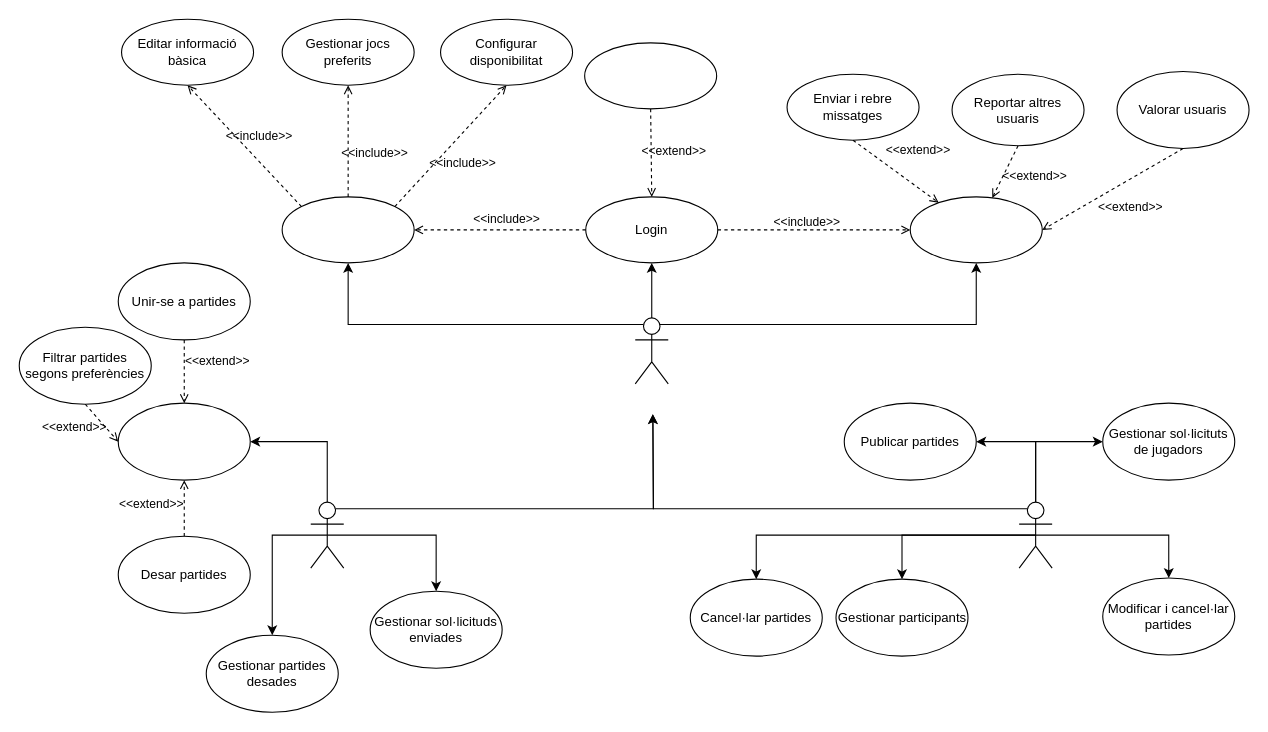
This 1268x732 diagram has some shape labels left out. The centre of each missing label's shape, as x and y in pixels:
"Cercar partides" goes at point 183,441.
"Consultar altres perfils" goes at point 975,229.
"Consultar partides passades" goes at point 650,75.
"Game Màster" goes at point 1035,534.
"Gestionar perfil" goes at point 347,229.
"Jugador" goes at point 327,534.
"Usuari" goes at point 651,350.
